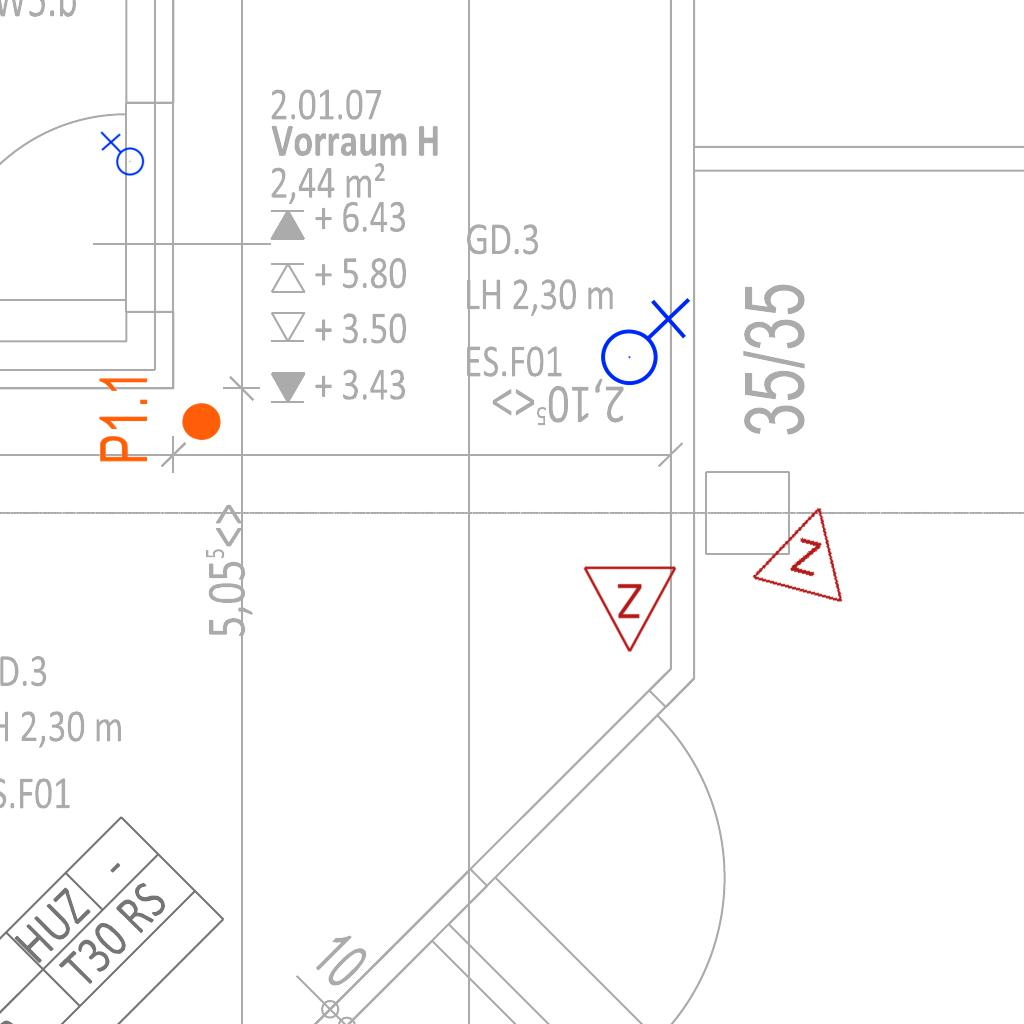Downlight_LED_Einbauleuchten_Flur: (96, 372, 224, 465)
Elektroanschluss_allgemein_230V_Geraeteanschlussdose_230V: (592, 293, 691, 387), (98, 131, 145, 180)
Zimmersignalleuchte: (746, 488, 868, 610), (582, 559, 680, 659)
